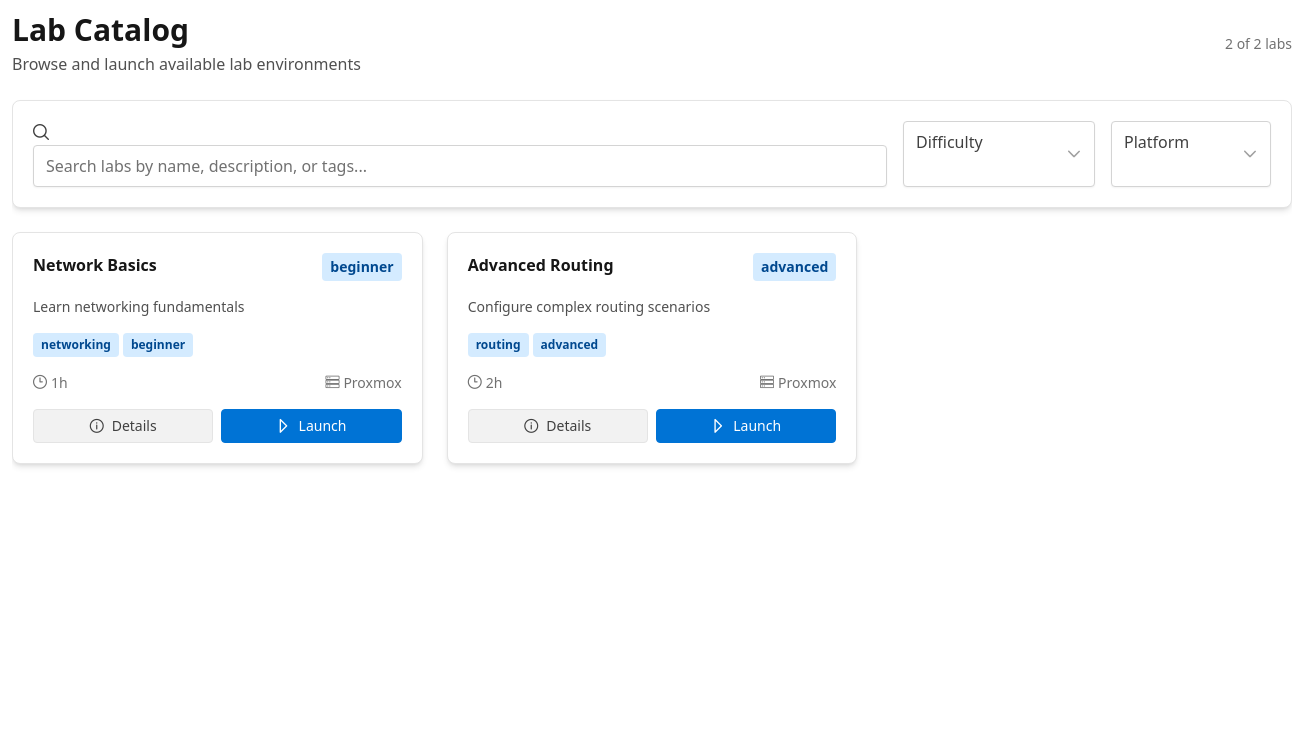
Test: LabsView › launch pod › should show error on launch failure
The width and height of the screenshot is (1304, 732).
Click the 1st button "Launch" at (311, 426), box [221, 409, 402, 443]
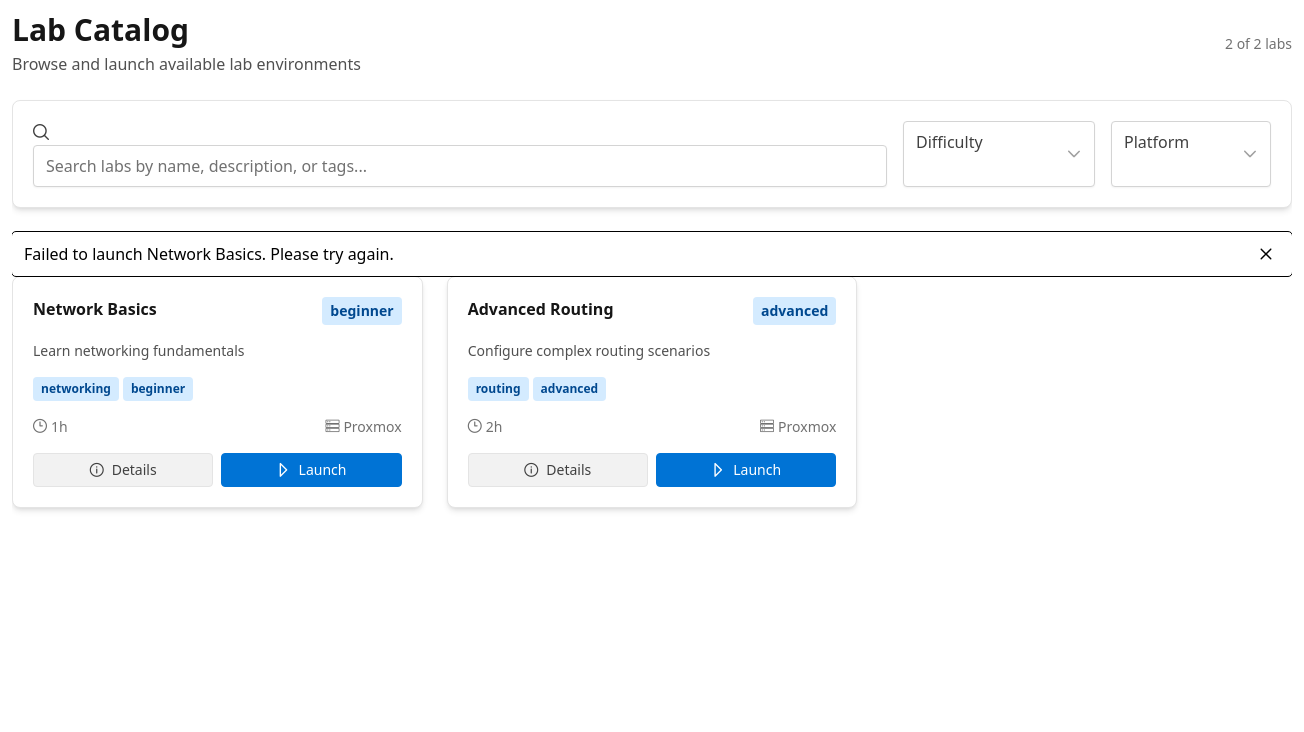
Check: the text "Failed to launch Network Basics" is shown, box [24, 243, 394, 265]
